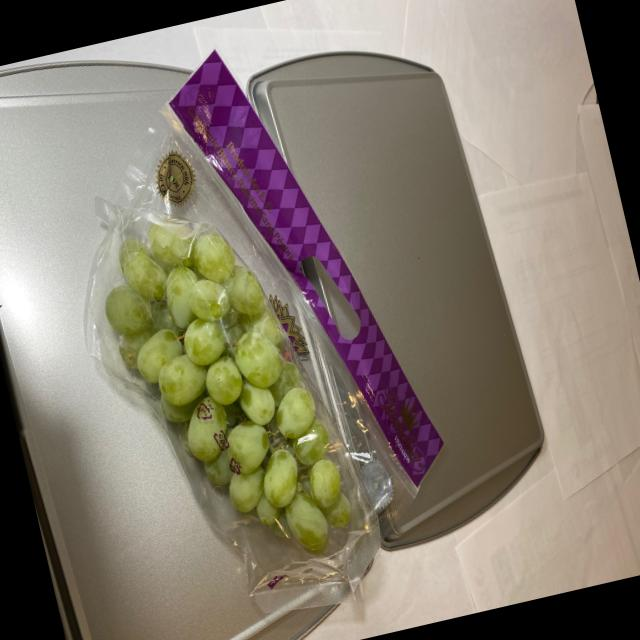grapes: (95, 196, 378, 607)
